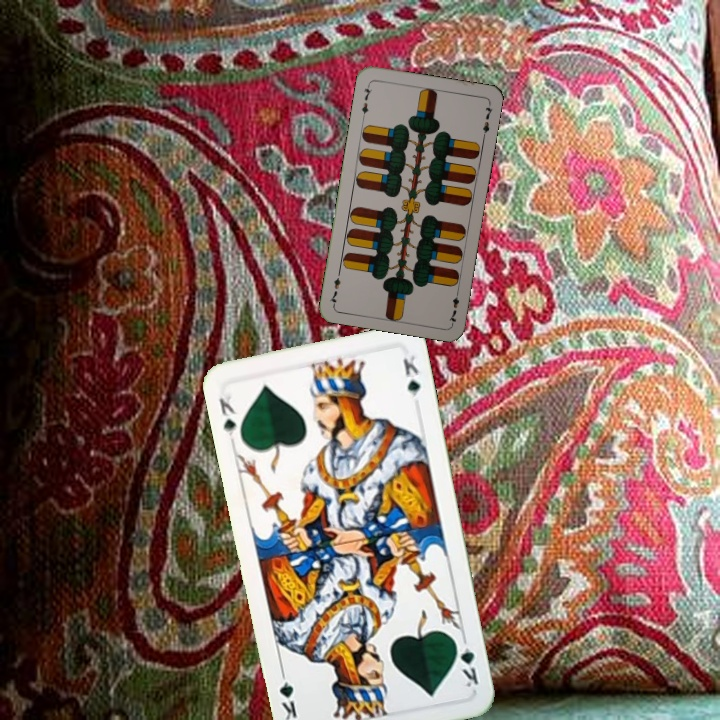E7: (357, 80, 374, 120), (445, 286, 462, 326)
GK: (451, 632, 481, 690), (215, 392, 239, 444)
